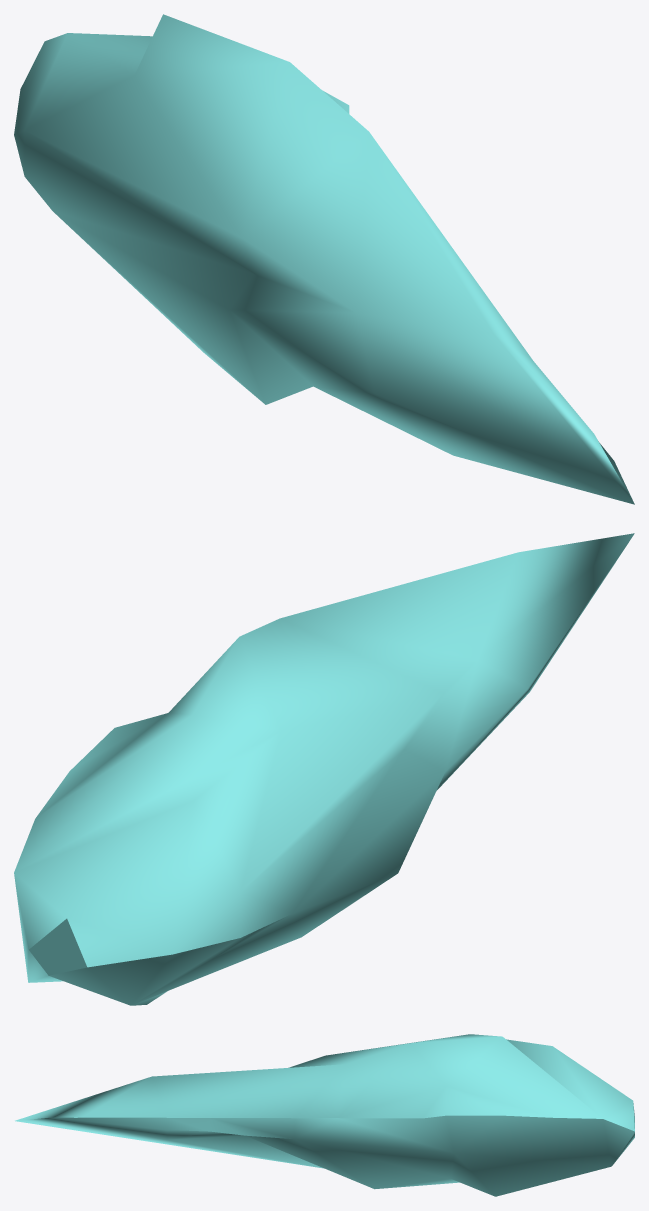
File: icicle.fbx
3 renders of one model, top to bottom at view 1: azimuth 30°, elevation 25°; view 2: azimuth 150°, elevation 25°; view 3: azimuth 270°, elevation 25°, orthographic. The views are drawn at different scales.
Visible parts, largest first — view 1: icicle; view 2: icicle; view 3: icicle.
Boxes of the visible parts, box(x1,y1,x2,y2) form: icicle: box(14, 14, 634, 504); icicle: box(14, 533, 634, 1005); icicle: box(15, 1034, 634, 1196).
Size of the model in its own units: 24.75 by 26.84 by 102.
